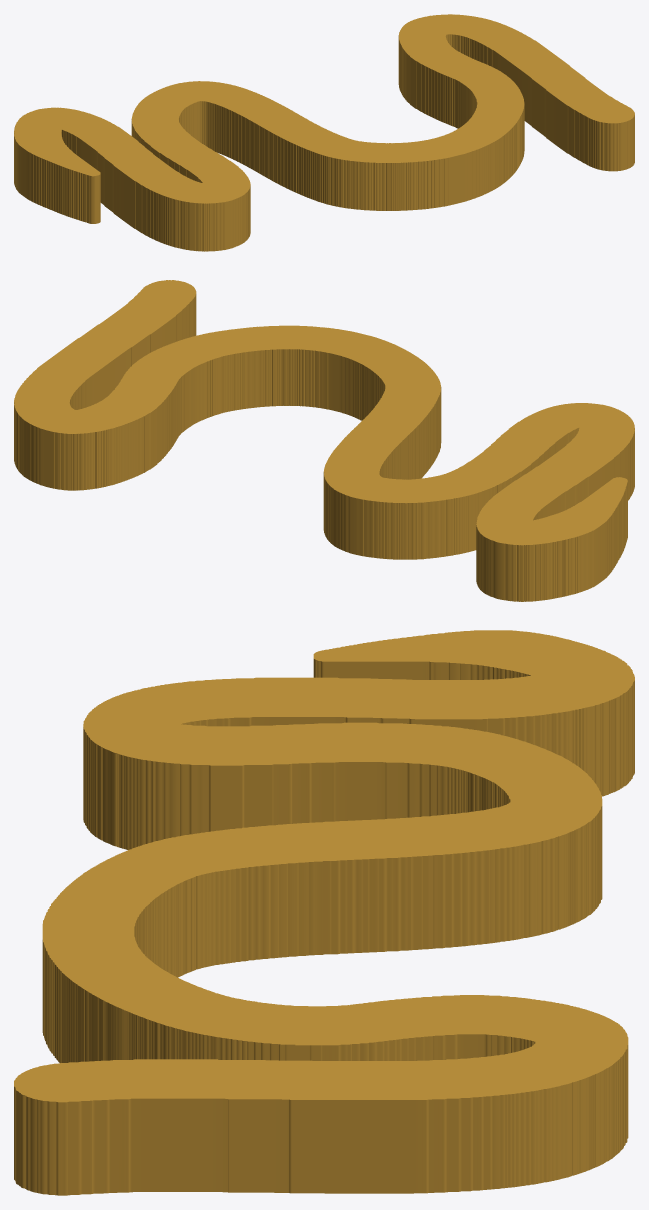
3 views of the same model, one above another, from view 1: azimuth 30°, elevation 25°; view 2: azimuth 150°, elevation 25°; view 3: azimuth 270°, elevation 25° (orthographic). The views are drawn at different scales.
Visible parts, largest first — view 1: Curve.009; view 2: Curve.009; view 3: Curve.009.
Boxes of the visible parts, box(x1,y1,x2,y2) form: Curve.009: box(14, 14, 634, 251); Curve.009: box(14, 280, 634, 601); Curve.009: box(14, 630, 634, 1195).
Bounding box in the file's own units: 107 × 9.89 × 59.6.
